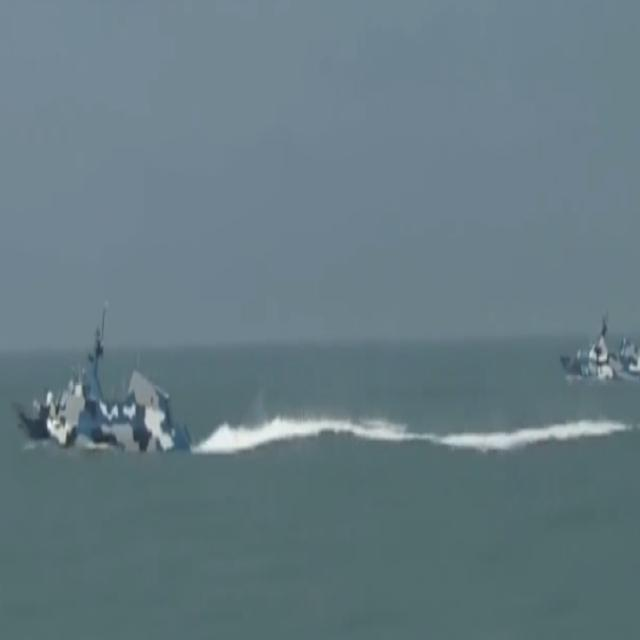houseboat: (16, 296, 190, 465), (561, 303, 640, 391)
